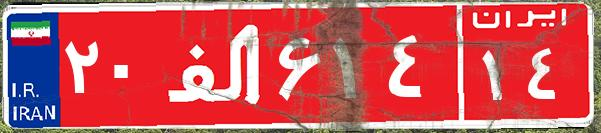0: (110, 28, 158, 105)
1: (330, 28, 385, 110), (475, 38, 525, 113)
2: (57, 26, 110, 107)
4: (385, 28, 445, 110), (525, 38, 570, 115)
6: (273, 28, 330, 110)
الف: (158, 15, 273, 115)
